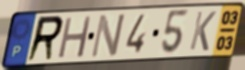4: (124, 13, 147, 56)
5: (159, 8, 191, 57)
H: (55, 14, 94, 61)
K: (187, 10, 218, 53)
N: (89, 12, 128, 60)
R: (24, 14, 66, 64)
